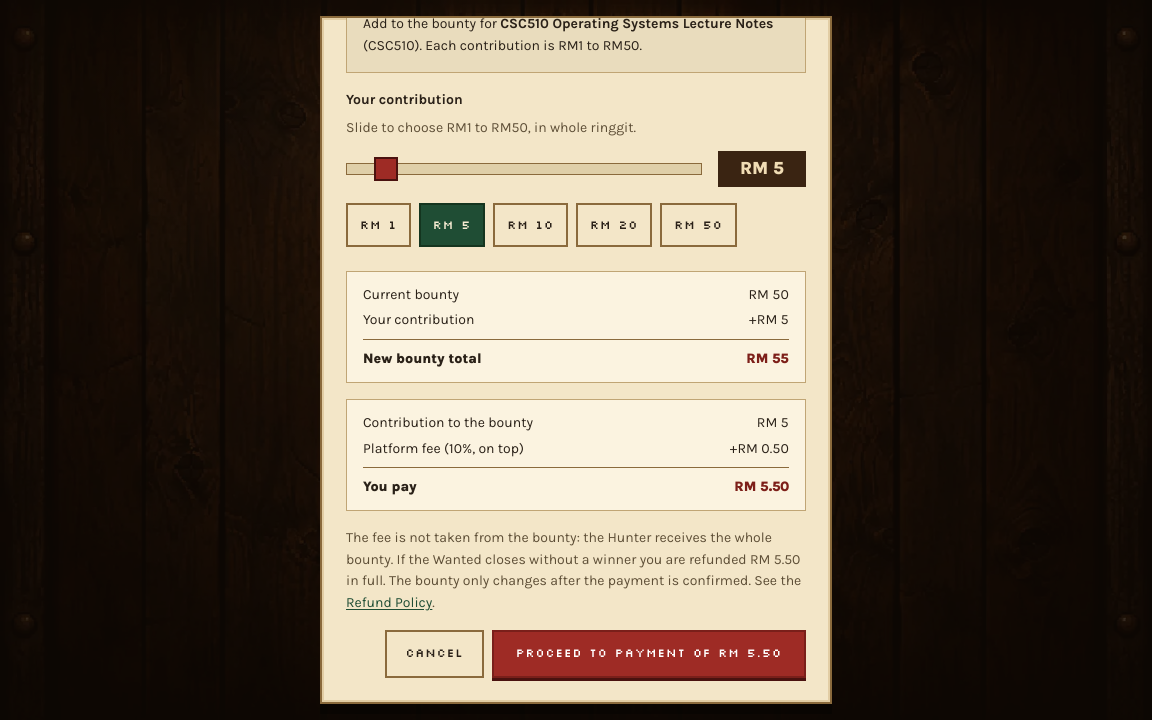
Test case: BackWantedModal › handles launch-gate refusal with informative notice
This screenshot has width=1152, height=720.
(page scrolled)
Step 1. Click the button "Proceed to payment of RM 5.50" → point(649, 654), box 492,630 -> 806,678
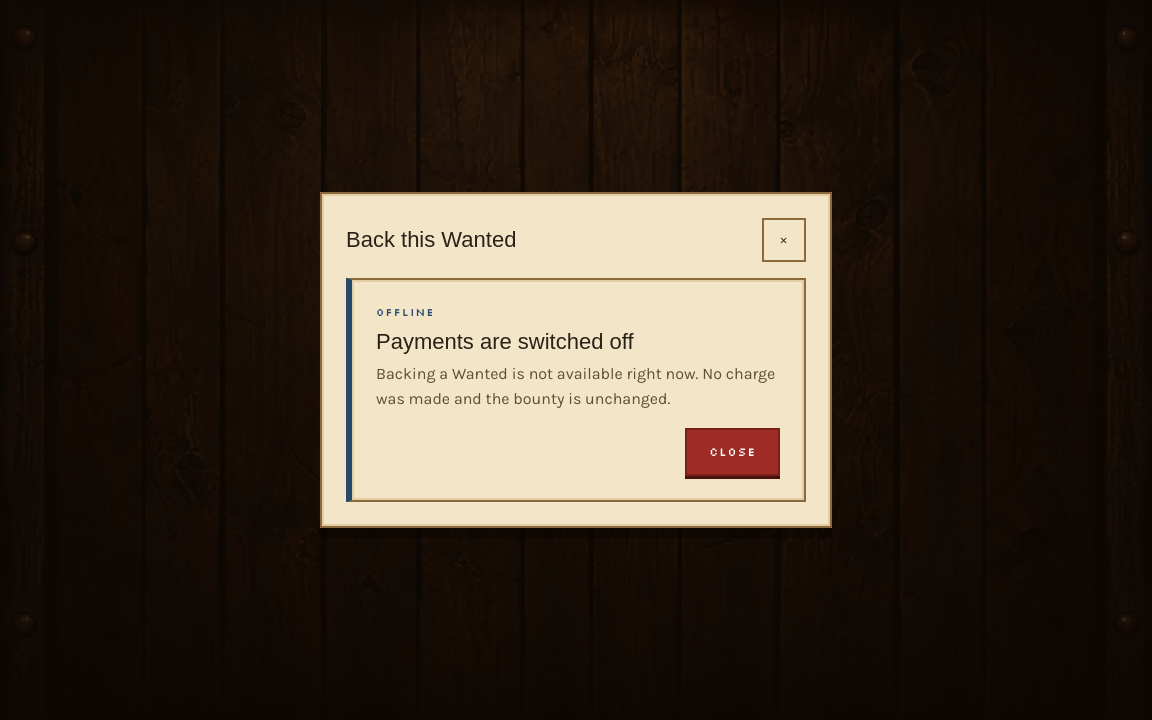
Check: the heading "Payments are switched off" is shown, box 376,329 -> 634,354
Check: the text "No charge was made and the bounty is unchanged" is shown, box 376,364 -> 775,408
